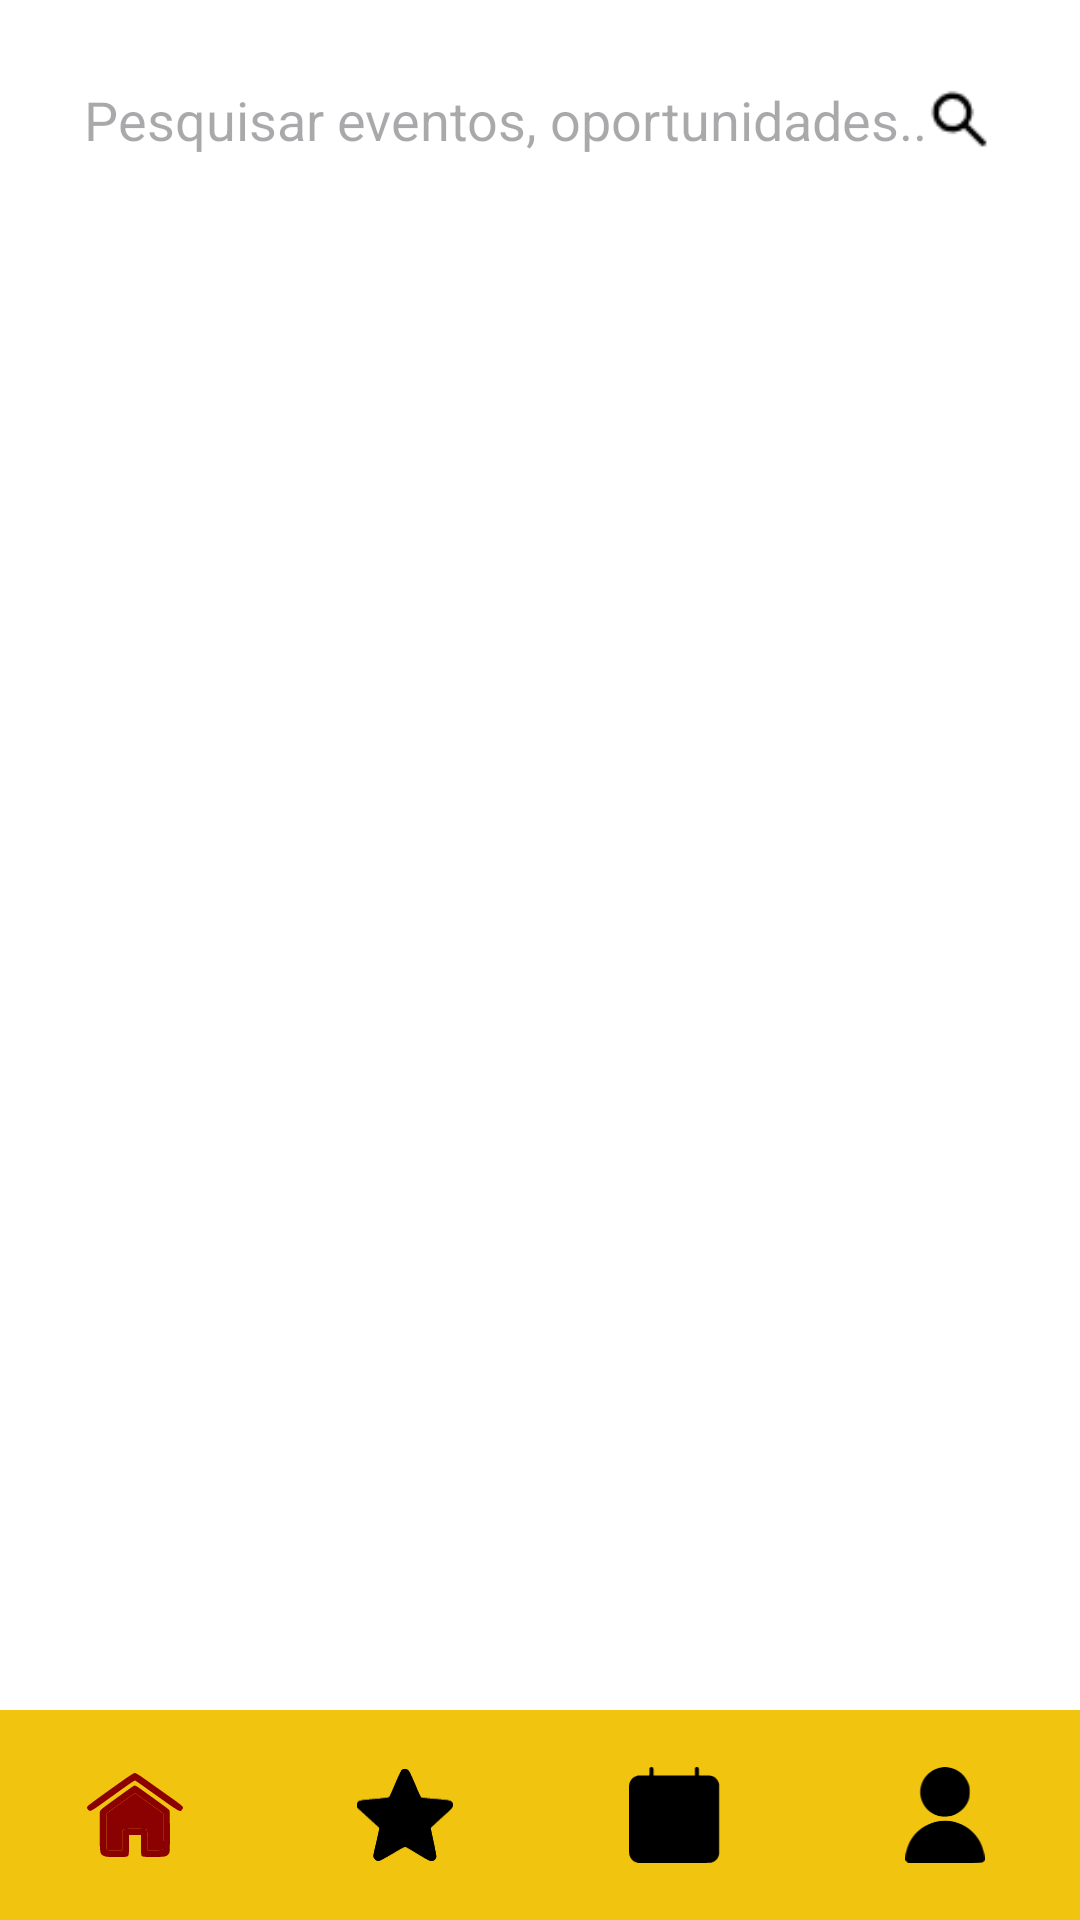

Locate icon controls on the screen. Image size 1080×1920, boxes as bbox(x1, y1, x2, y2).
Buscar: bbox(931, 91, 987, 147)
